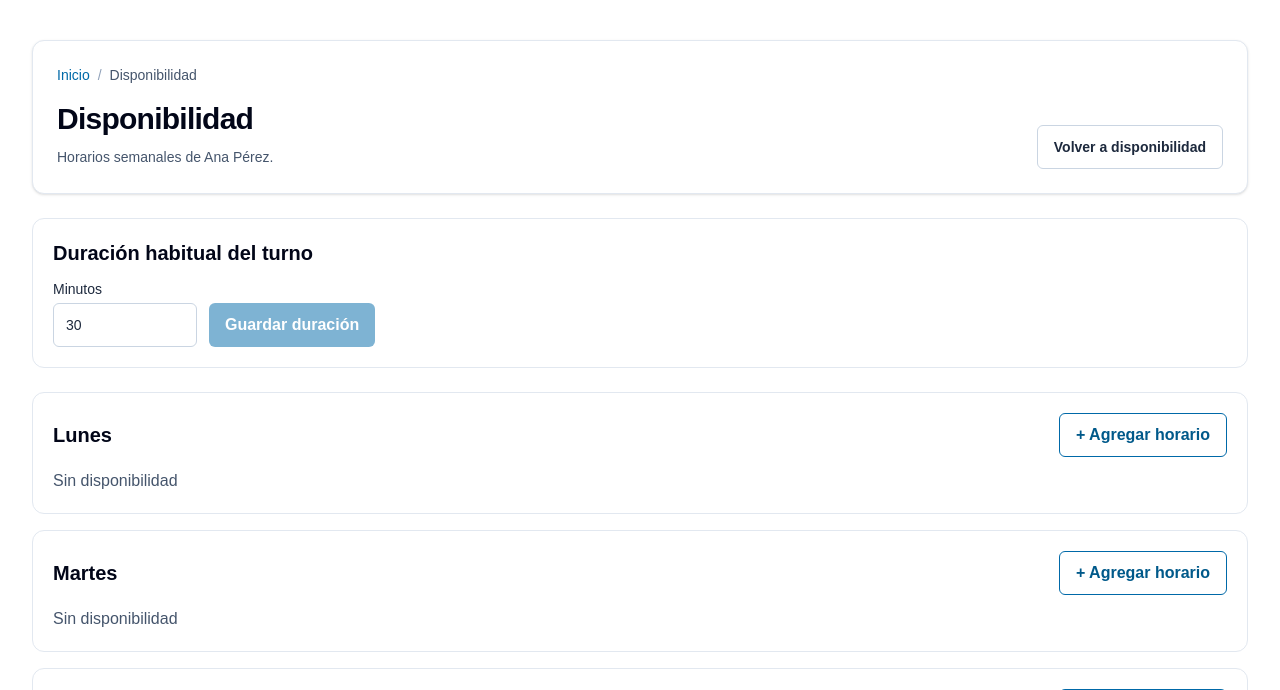
Scenario: AvailabilityScreen › updates duration using ProfessionalCenter CAS and reports errors
Step 1. Replace the text in the number field labelled "Minutos" with "45" → (125, 325), box [53, 303, 197, 347]
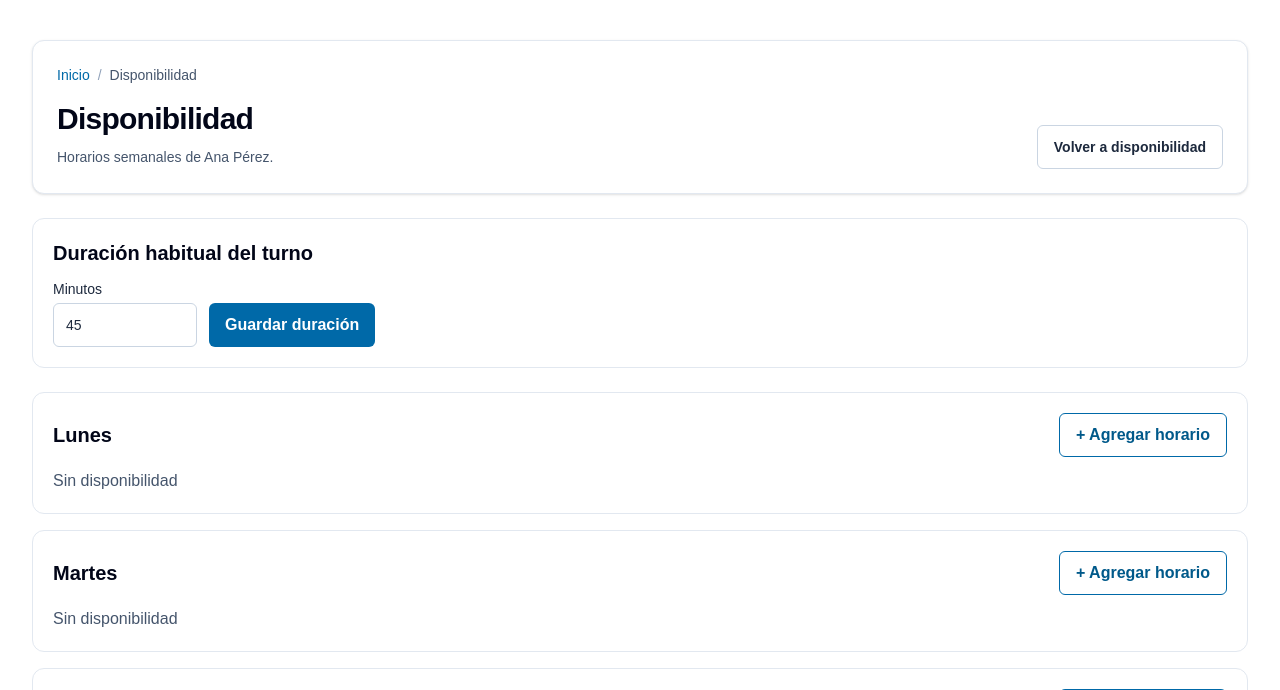
Step 2. Click the button "Guardar duración" → (292, 325), box [209, 303, 375, 347]
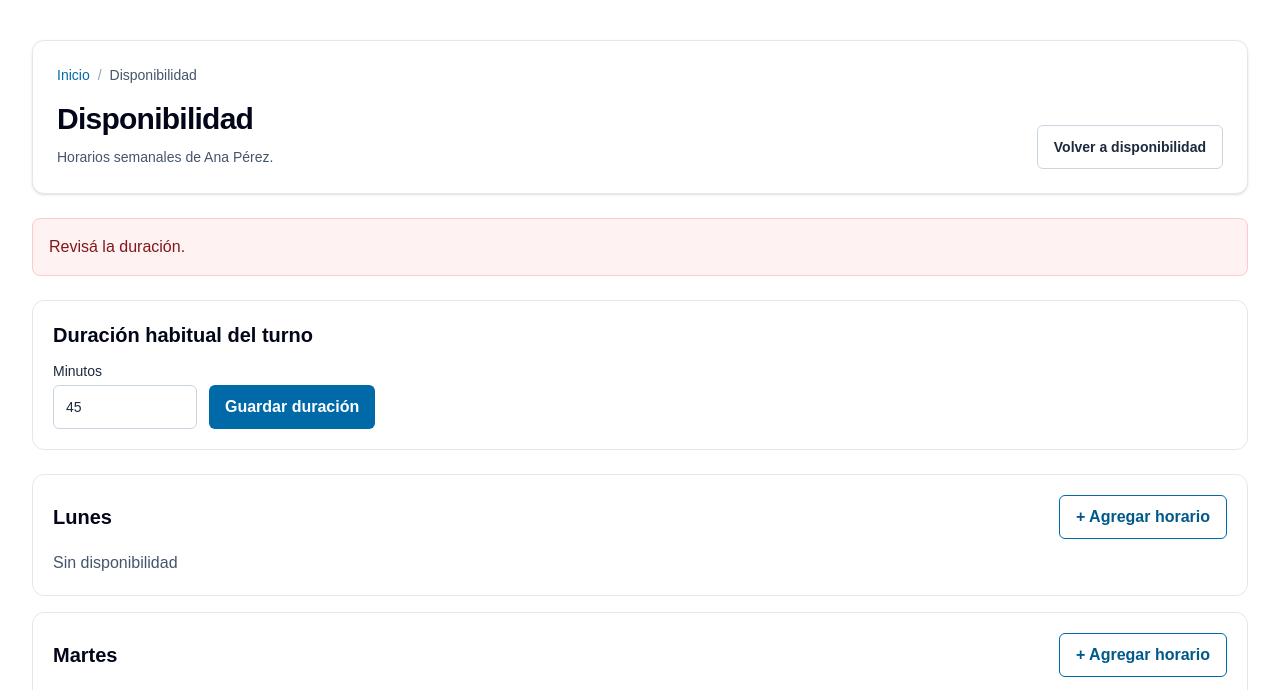
Check: the button "Guardar duración" is enabled, box [209, 385, 375, 429]
Check: the message reads "Revisá la duración.", box [49, 238, 185, 255]
